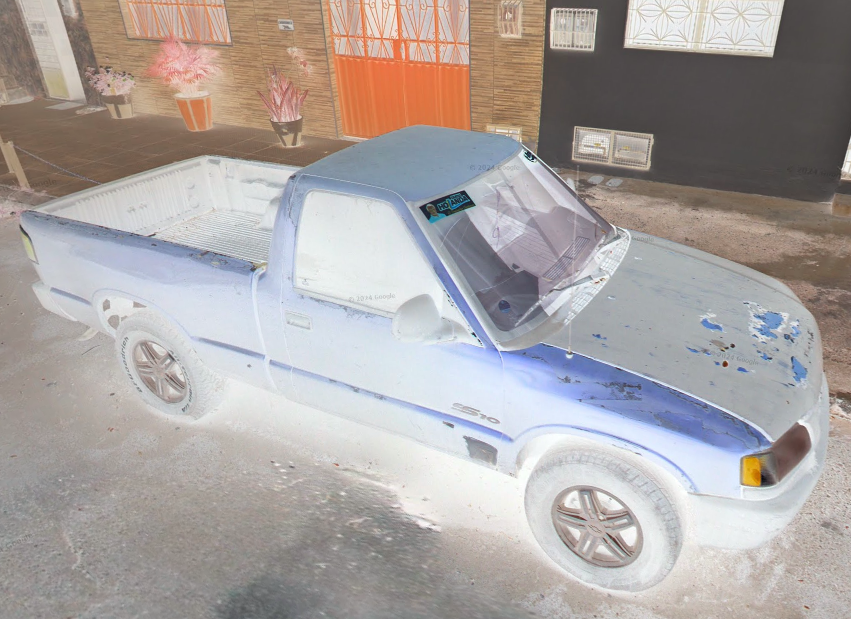car: (21, 153, 829, 592)
